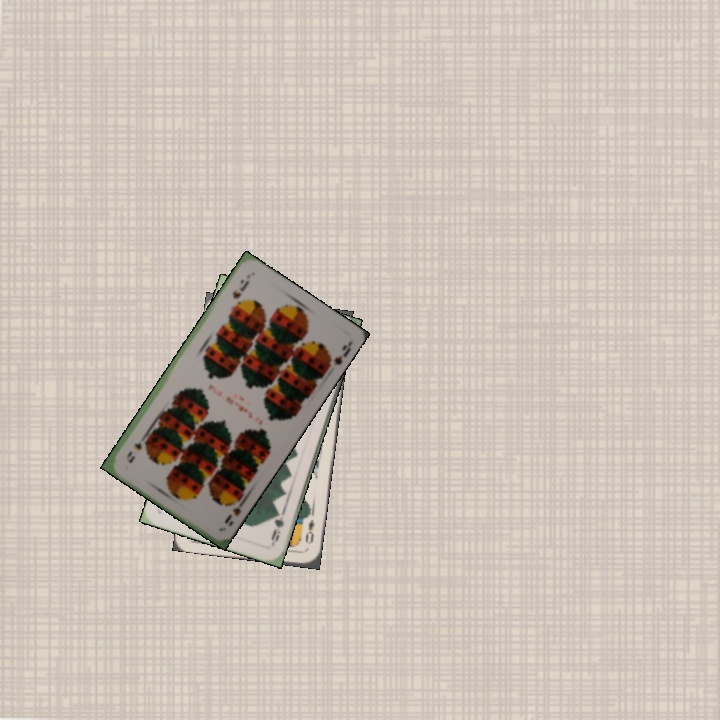EO: (301, 516, 317, 547)
G9: (267, 507, 287, 548)
S9: (220, 494, 249, 526), (228, 275, 247, 301)
